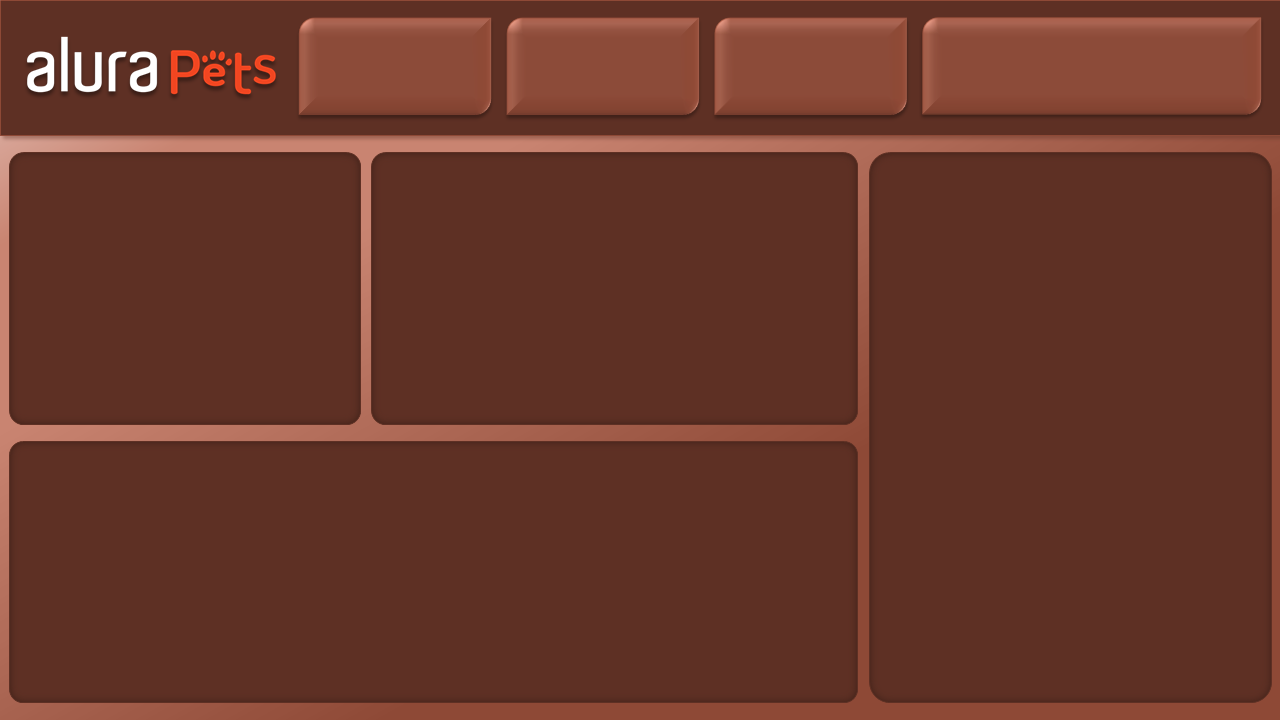

Layout of this report page (visuals, bound fields, positions):
{"tool":"powerbi","page":{"name":"Page 1","canvas":[1280,720],"ordinal":0},"visuals":[{"type":"image","box":[10.1,0,1269.9,720.6],"z":0},{"type":"shape","box":[33.6,16.8,263.7,97.4],"z":1000},{"type":"card","fields":{"Values":["Sum(pub?gid=[phone redacted]&single=true&output=csv.EmployeeNumber)"]},"box":[33.6,25.2,263.7,89],"z":2000},{"type":"card","fields":{"Values":["pub?gid=[phone redacted]&single=true&output=csv.Attrition Rate"]},"box":[309.1,21.8,189.8,97.4],"z":3000},{"type":"card","fields":{"Values":["Sum(pub?gid=[phone redacted]&single=true&output=csv.YearsAtCompany)"]},"box":[514,25.2,189.8,94.1],"z":4000},{"type":"card","fields":{"Values":["Sum(pub?gid=[phone redacted]&single=true&output=csv.MonthlyIncome)"]},"box":[720.6,25.2,186.5,89],"z":5000},{"type":"clusteredColumnChart","fields":{"Category":["pub?gid=[phone redacted]&single=true&output=csv.Department"],"Y":["pub?gid=[phone redacted]&single=true&output=csv.Attrition Rate"]},"box":[923.9,21.8,336,102.5],"z":6000},{"type":"slicer","fields":{"Values":["pub?gid=[phone redacted]&single=true&output=csv.Department"]},"box":[21.8,149.5,347.7,275.5],"z":7000},{"type":"donutChart","fields":{"Category":["pub?gid=[phone redacted]&single=true&output=csv.JobRole"],"Y":["Sum(pub?gid=[phone redacted]&single=true&output=csv.EmployeeNumber)"]},"box":[386.4,161.3,470.3,275.5],"z":8000},{"type":"hundredPercentStackedBarChart","fields":{"Category":["pub?gid=[phone redacted]&single=true&output=csv.OverTime"],"Series":["pub?gid=[phone redacted]&single=true&output=csv.Attrition"],"Y":["Sum(pub?gid=[phone redacted]&single=true&output=csv.EmployeeNumber)"]},"box":[871.8,151.2,388,545.9],"z":8001},{"type":"clusteredColumnChart","fields":{"Category":["pub?gid=[phone redacted]&single=true&output=csv.Age"],"Series":["pub?gid=[phone redacted]&single=true&output=csv.Attrition"],"Y":["Sum(pub?gid=[phone redacted]&single=true&output=csv.EmployeeNumber)"]},"box":[33.6,448.5,823.1,248.6],"z":8002}]}

Visuals, with their boxes in screenshot pixels (x1, y1, x2, y2), scaled from the page's 1280x720 canvas onto the 1280x720 screenshot:
image: x1=10, y1=0, x2=1279, y2=719
shape: x1=34, y1=17, x2=297, y2=114
card - Sum(pub?gid=[phone redacted]&single=true&output=csv.EmployeeNumber): x1=34, y1=25, x2=297, y2=114
card - pub?gid=[phone redacted]&single=true&output=csv.Attrition Rate: x1=309, y1=22, x2=499, y2=119
card - Sum(pub?gid=[phone redacted]&single=true&output=csv.YearsAtCompany): x1=514, y1=25, x2=704, y2=119
card - Sum(pub?gid=[phone redacted]&single=true&output=csv.MonthlyIncome): x1=721, y1=25, x2=907, y2=114
clusteredColumnChart - pub?gid=[phone redacted]&single=true&output=csv.Department x pub?gid=[phone redacted]&single=true&output=csv.Attrition Rate: x1=924, y1=22, x2=1260, y2=124
slicer - pub?gid=[phone redacted]&single=true&output=csv.Department: x1=22, y1=150, x2=370, y2=425
donutChart - pub?gid=[phone redacted]&single=true&output=csv.JobRole x Sum(pub?gid=[phone redacted]&single=true&output=csv.EmployeeNumber): x1=386, y1=161, x2=857, y2=437
hundredPercentStackedBarChart - pub?gid=[phone redacted]&single=true&output=csv.OverTime x pub?gid=[phone redacted]&single=true&output=csv.Attrition: x1=872, y1=151, x2=1260, y2=697
clusteredColumnChart - pub?gid=[phone redacted]&single=true&output=csv.Age x pub?gid=[phone redacted]&single=true&output=csv.Attrition: x1=34, y1=448, x2=857, y2=697
